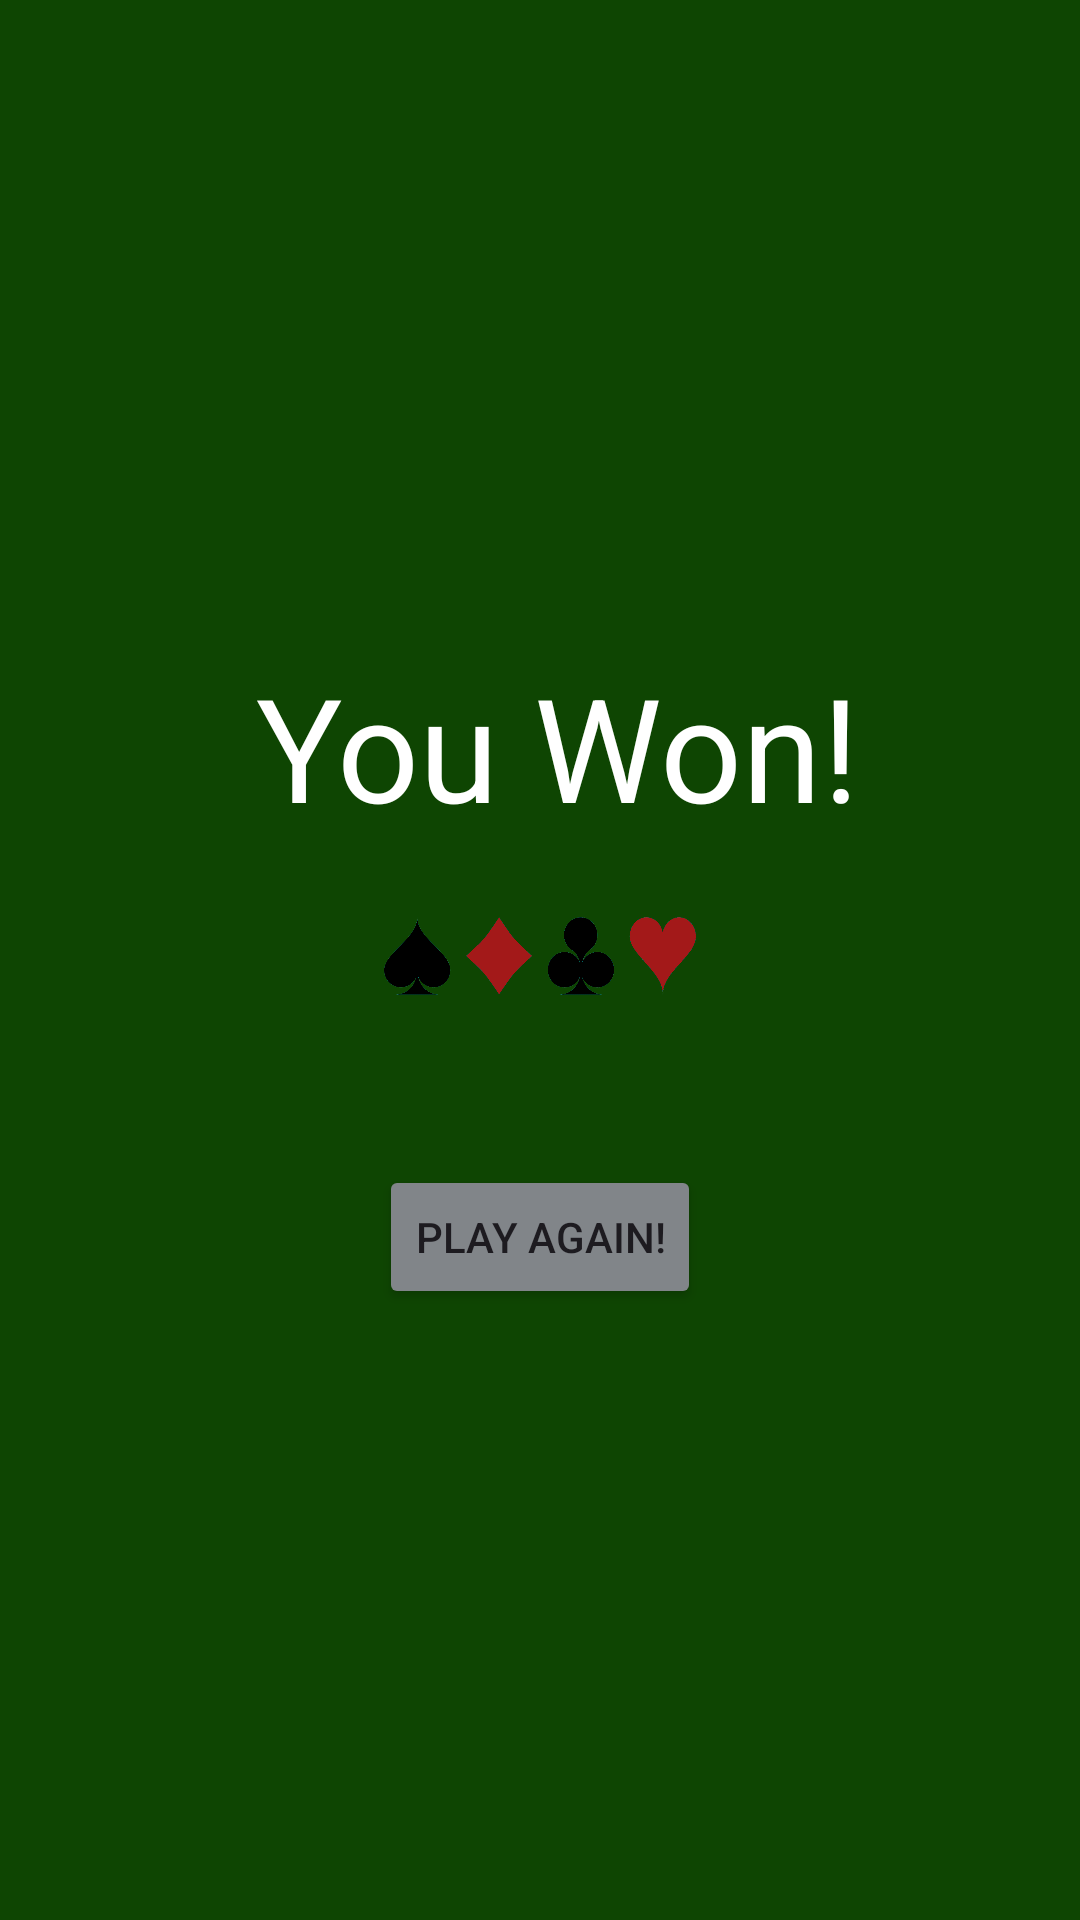

Icon click points for this 1080 × 1920 phone screenshot, format (x,y):
cards: (540,956)
